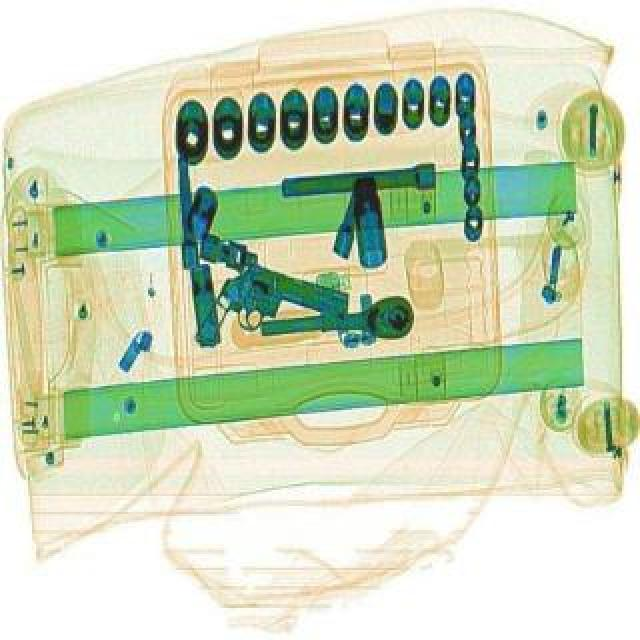gun: (190, 250, 354, 382)
